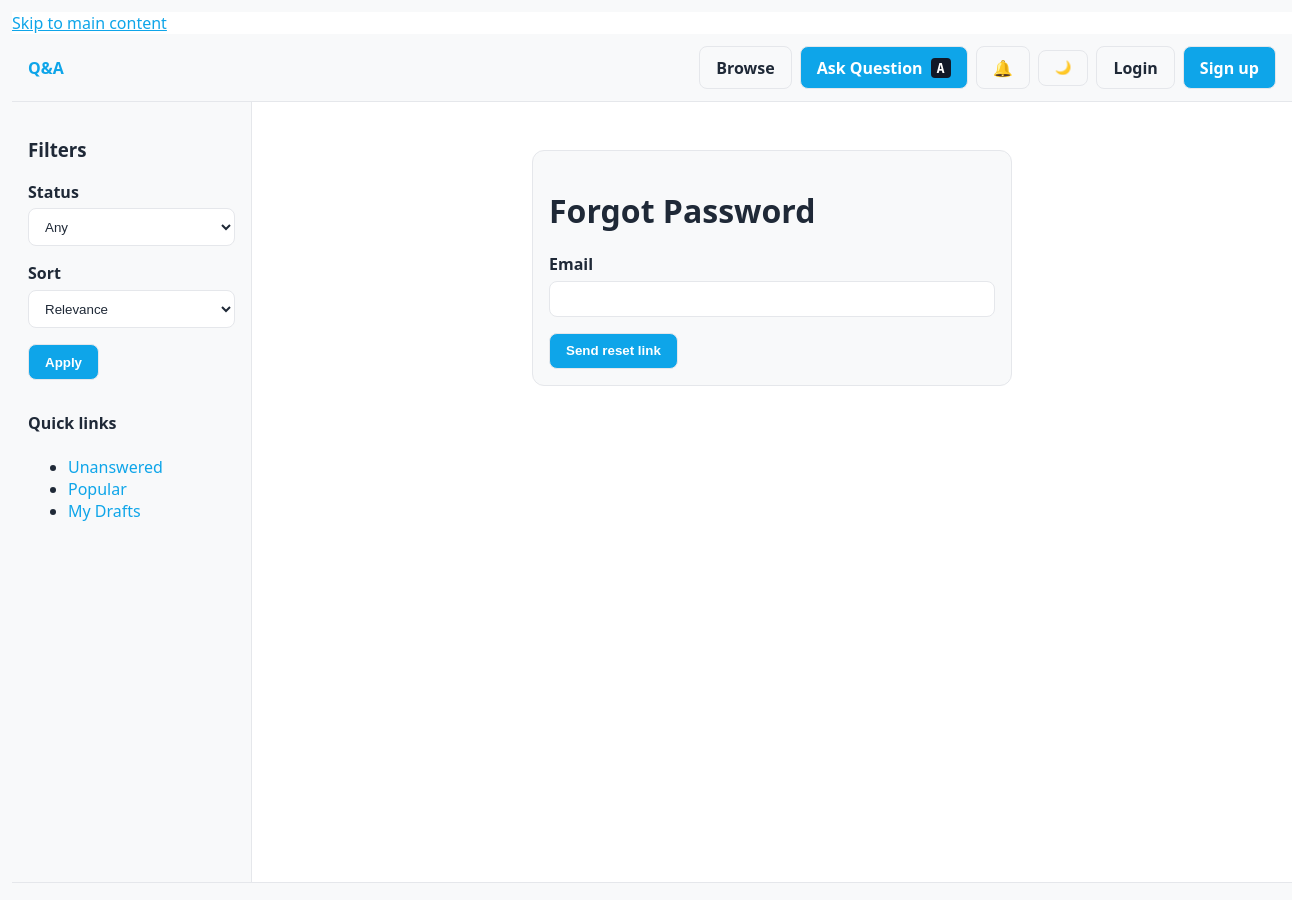
Auth flows › forgot password submits and shows success message
The width and height of the screenshot is (1292, 900).
Type "me@ex.com" into the field labelled "Email" at (772, 299), box [549,281,995,317]
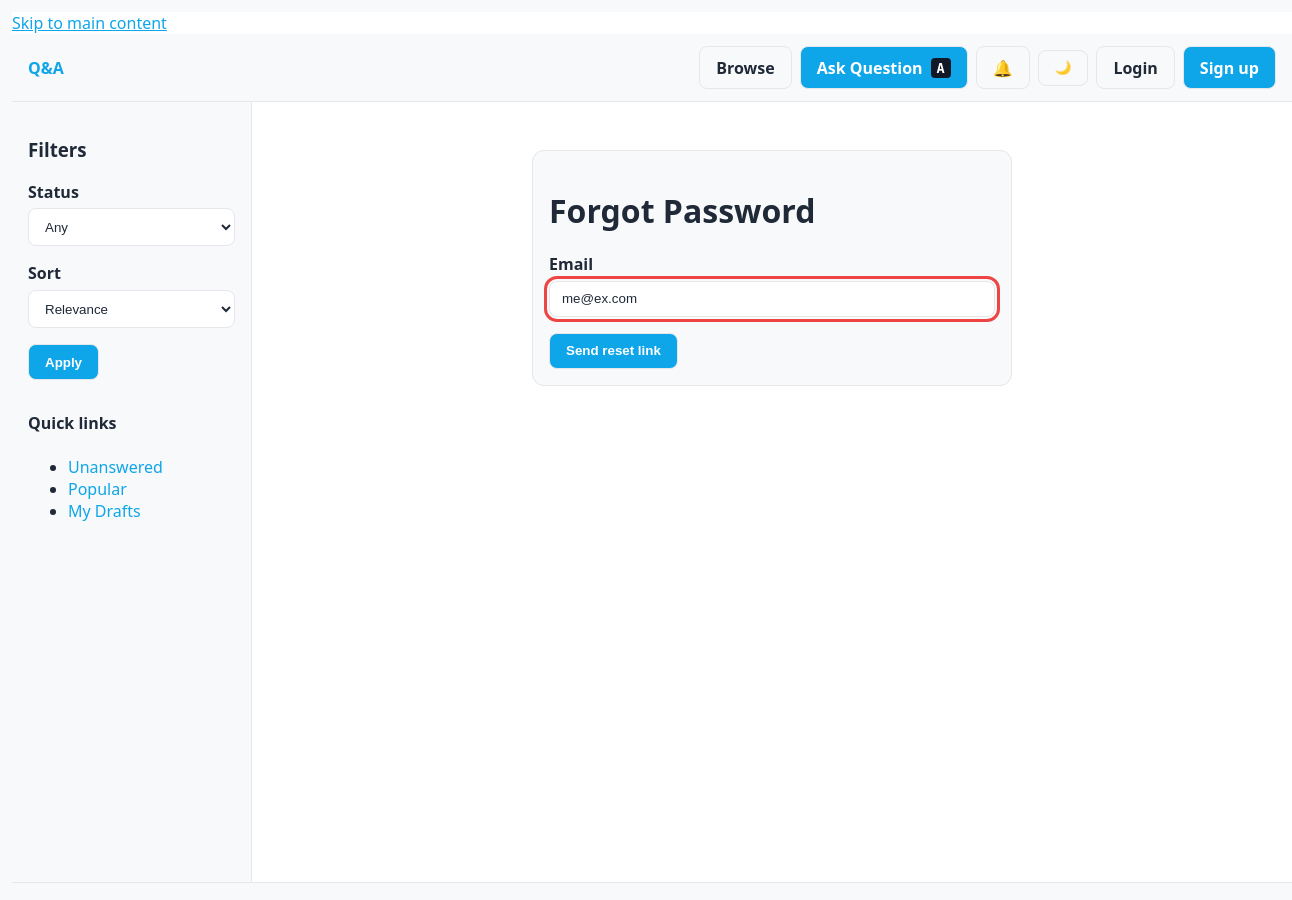
Click the button "Send reset link" at (613, 351), box [549,333,678,369]
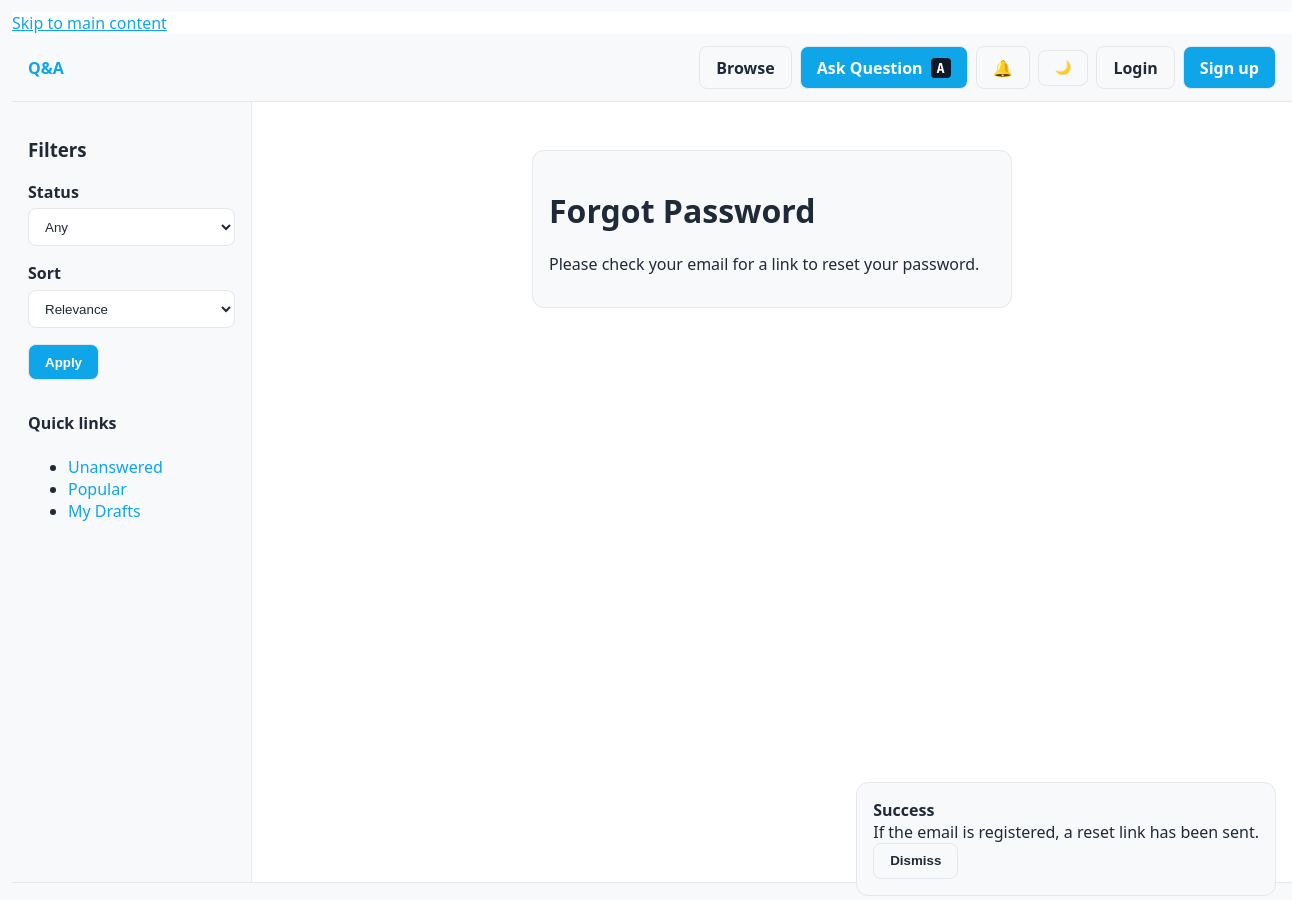
Now the message "Success If the email is registered, a reset link has been sent. Dismiss" is shown, box [856,782,1276,896]
